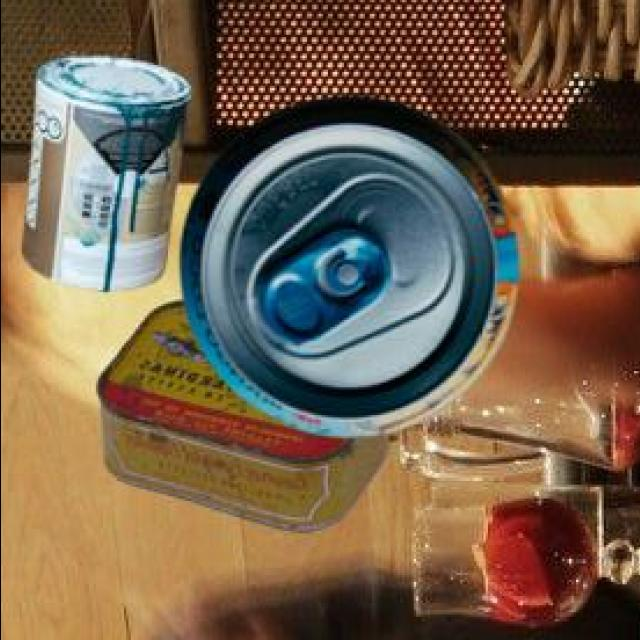logam: (175, 94, 514, 435), (94, 298, 384, 528), (17, 54, 187, 289)
